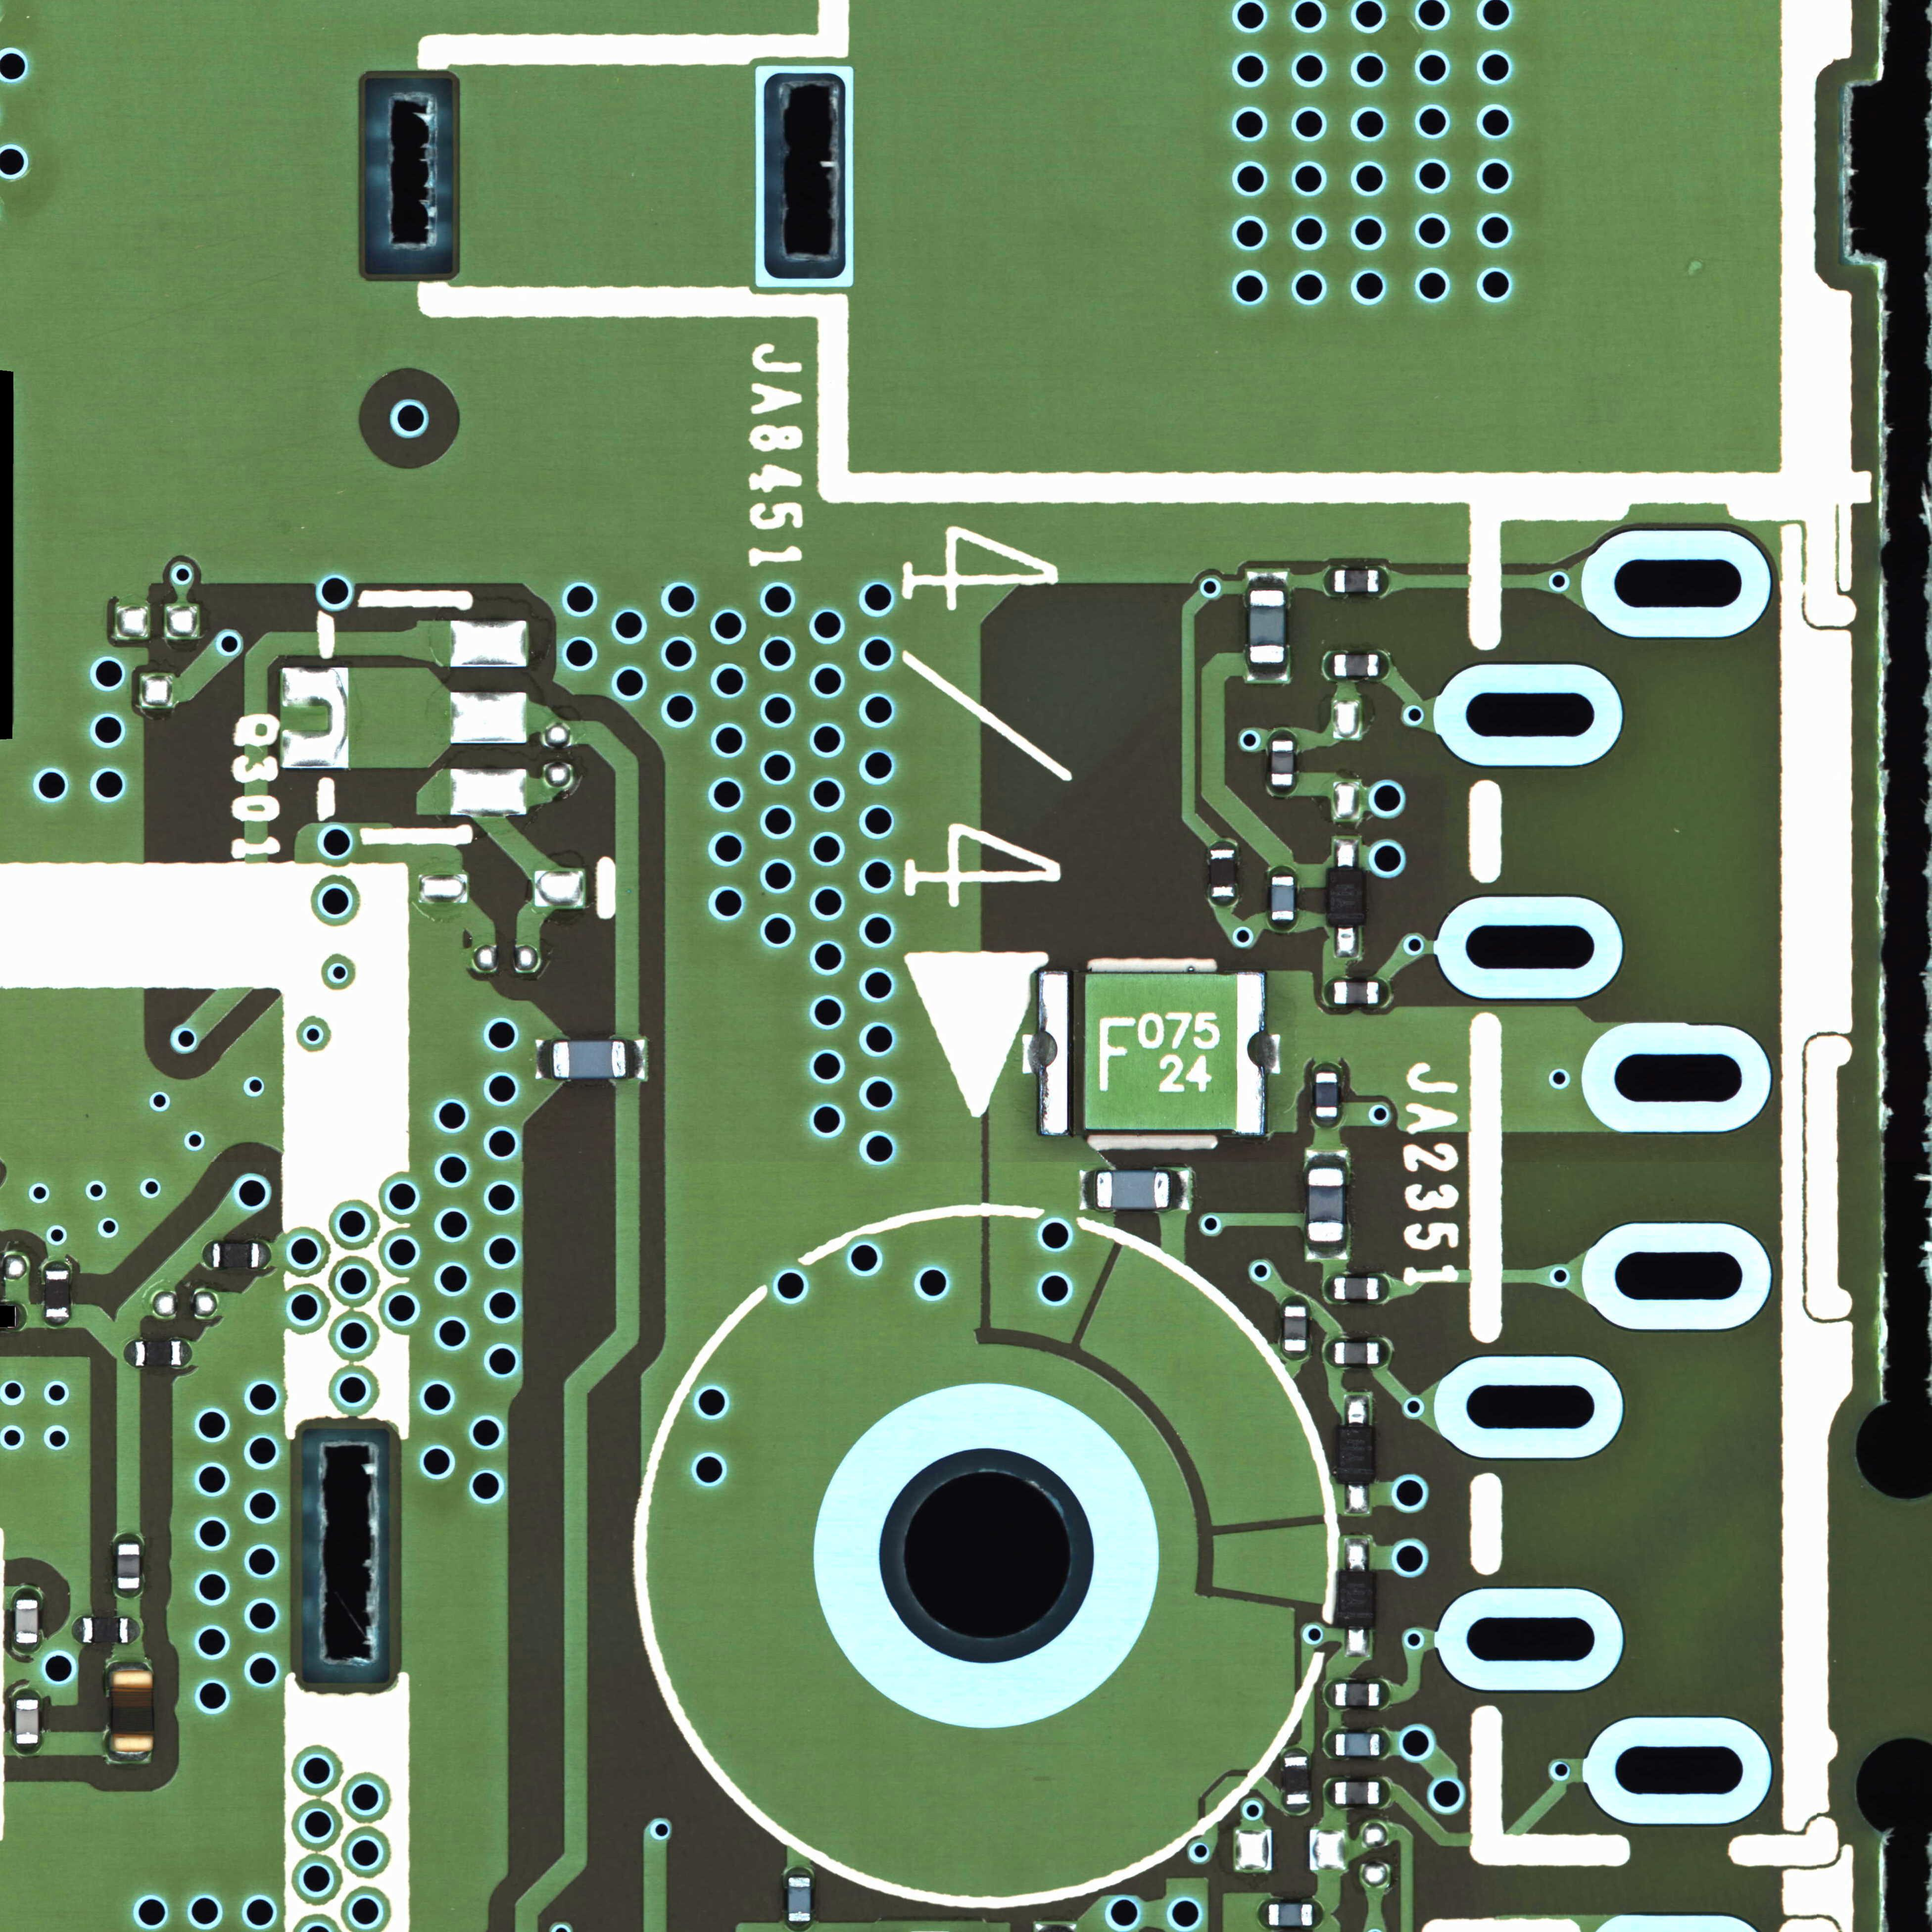Package: (1039, 971, 1265, 1136), (110, 1672, 154, 1752), (552, 1040, 625, 1077), (1097, 1171, 1169, 1208), (1309, 1168, 1343, 1240), (1251, 591, 1284, 662), (1327, 870, 1364, 925), (1338, 1571, 1373, 1626), (1339, 1426, 1373, 1483), (212, 1242, 258, 1269), (44, 1270, 69, 1318), (1210, 849, 1235, 897), (1284, 1757, 1309, 1805), (83, 1617, 127, 1644), (136, 1341, 180, 1366), (117, 1545, 140, 1589), (1270, 876, 1293, 920), (1334, 1277, 1378, 1300), (1334, 1782, 1378, 1805), (16, 1698, 37, 1744), (1336, 570, 1378, 593), (1272, 740, 1293, 786), (1316, 1072, 1338, 1118), (1334, 655, 1378, 676), (1334, 982, 1378, 1003), (1334, 1343, 1378, 1364), (1284, 1306, 1306, 1350), (789, 1877, 810, 1921), (1269, 1904, 1313, 1925), (1336, 1734, 1380, 1755), (1336, 1684, 1380, 1706), (16, 1599, 37, 1642)
Solder: (1023, 1031, 1058, 1074), (1247, 1031, 1281, 1074), (1345, 1394, 1373, 1426), (1246, 663, 1290, 683), (1345, 1537, 1369, 1571), (1169, 1171, 1191, 1210), (1307, 1148, 1350, 1168), (1306, 1242, 1348, 1261), (1334, 839, 1361, 869), (1247, 570, 1288, 589), (626, 1040, 646, 1079), (1346, 1628, 1369, 1658), (1346, 1484, 1369, 1514), (1336, 927, 1359, 957), (1077, 1171, 1095, 1208), (536, 1039, 552, 1079), (108, 1753, 154, 1764), (110, 1660, 154, 1670), (129, 1615, 142, 1644), (1378, 651, 1391, 679), (1270, 920, 1297, 932), (1378, 568, 1391, 594), (1378, 1732, 1392, 1755), (1313, 1062, 1343, 1072), (124, 1341, 136, 1366), (14, 1642, 39, 1654), (1322, 1276, 1334, 1300), (1270, 727, 1295, 740), (1323, 978, 1334, 1007), (1323, 568, 1334, 596), (1323, 1732, 1336, 1755), (1378, 1341, 1391, 1364), (260, 1242, 271, 1269), (202, 1242, 212, 1269), (1313, 1118, 1339, 1129), (1210, 897, 1237, 908), (16, 1304, 27, 1330), (182, 1341, 193, 1366), (71, 1617, 81, 1642), (1380, 1683, 1391, 1707), (1322, 1341, 1334, 1362), (1380, 1276, 1391, 1300), (1283, 1295, 1307, 1306), (1270, 865, 1295, 876), (1380, 980, 1391, 1005), (1269, 786, 1297, 794), (1323, 651, 1332, 679), (117, 1532, 140, 1543), (16, 1744, 39, 1755), (787, 1865, 810, 1875), (1313, 1904, 1323, 1927), (1258, 1904, 1269, 1927), (1380, 1782, 1391, 1805), (1323, 1782, 1334, 1805), (1284, 1350, 1307, 1361), (1212, 839, 1235, 849), (42, 1318, 69, 1327), (16, 1587, 37, 1598), (789, 1921, 810, 1932), (44, 1260, 69, 1269), (1284, 1805, 1309, 1813), (1283, 1746, 1307, 1755), (16, 1688, 39, 1697), (1325, 1683, 1334, 1706), (119, 1591, 140, 1599)
